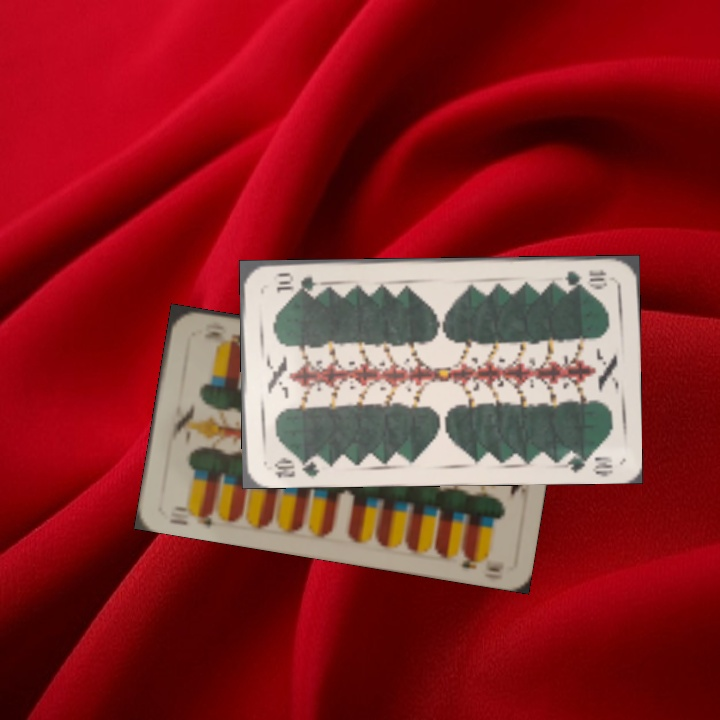E10: (165, 504, 216, 530)
G10: (270, 452, 326, 480), (560, 266, 609, 290)
